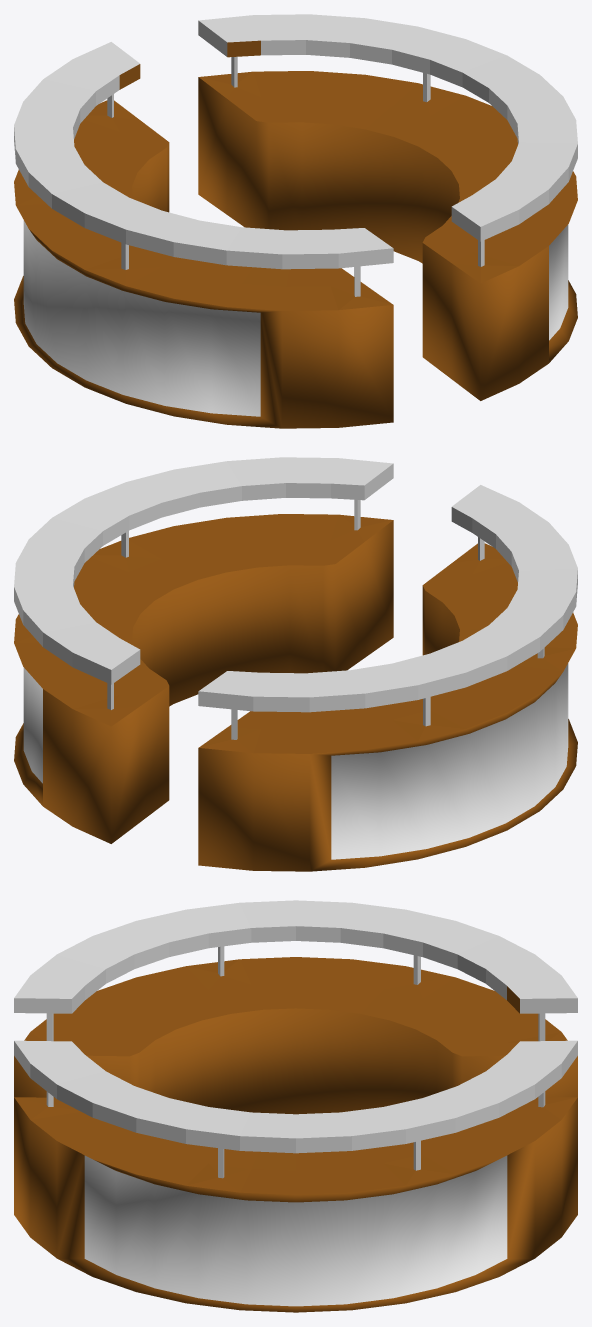
File: librarydesk.fbx
3 renders of one model, top to bottom at view 1: azimuth 30°, elevation 25°; view 2: azimuth 150°, elevation 25°; view 3: azimuth 270°, elevation 25°, orthographic.
Parts seen in each view (by area): view 1: Cylinder; view 2: Cylinder; view 3: Cylinder.
Boxes of the visible parts, x1,y1,x2,y2 form: Cylinder: (14,14,577,428); Cylinder: (14,457,577,871); Cylinder: (14,900,577,1312).
Bounding box in the file's own units: 5165 × 1762 × 5171.
